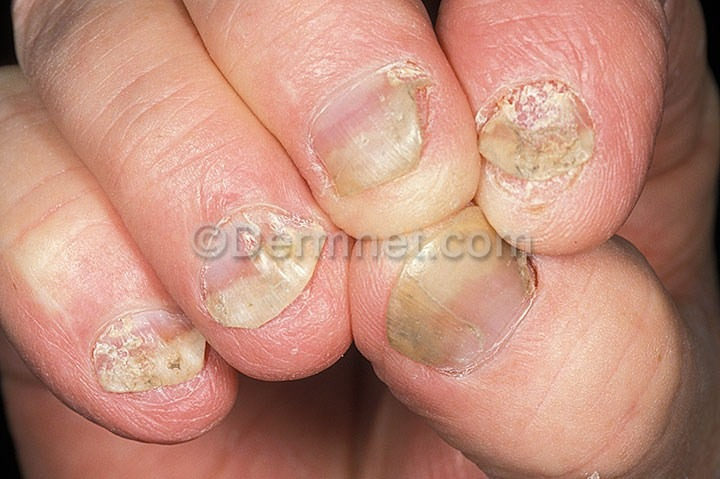Psoriasis: (371, 205, 565, 391), (163, 186, 345, 339), (282, 53, 449, 199), (455, 69, 607, 211), (75, 302, 227, 408)
